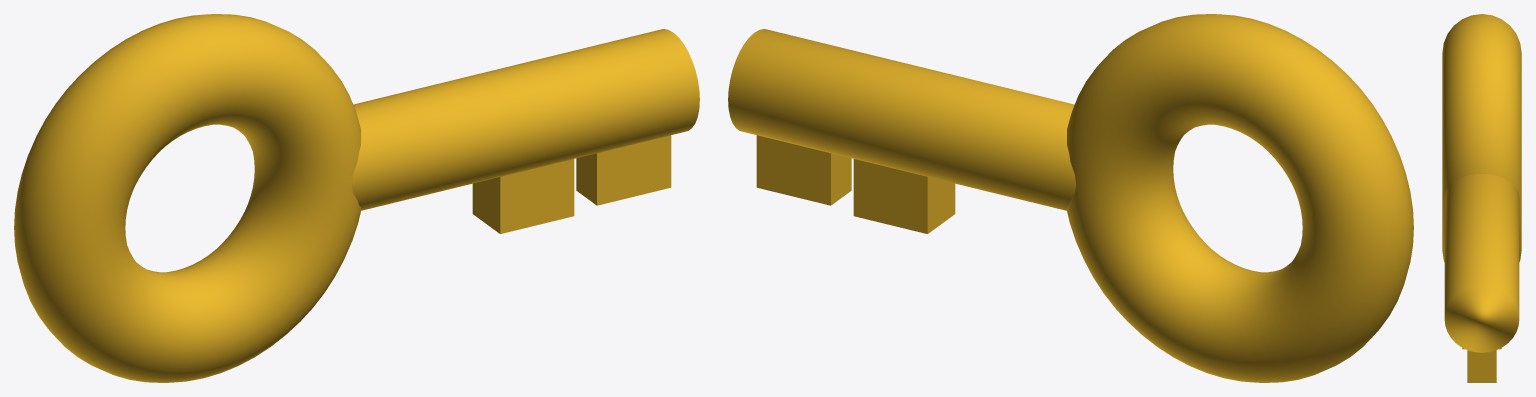
File: Key.fbx
3 views of the same model, side by side, from view 1: azimuth 30°, elevation 25°; view 2: azimuth 150°, elevation 25°; view 3: azimuth 270°, elevation 25° (orthographic). The views are drawn at different scales.
Parts seen in each view (by area): view 1: Torus.001, Cylinder, Cube, Cube.001; view 2: Torus.001, Cylinder, Cube, Cube.001; view 3: Torus.001, Cylinder, Cube.001.
Part boxes in pixels (x1,y1,x2,y2): Torus.001: (14,14,360,382); Cylinder: (351,29,699,210); Cube: (472,159,574,233); Cube.001: (576,135,671,205); Torus.001: (1067,14,1413,382); Cylinder: (728,29,1076,210); Cube: (853,159,955,233); Cube.001: (756,135,851,205); Torus.001: (1442,14,1521,261); Cylinder: (1444,174,1519,352); Cube.001: (1467,350,1496,382).
Bounding box in the file's own units: 231 × 120 × 34.39.
